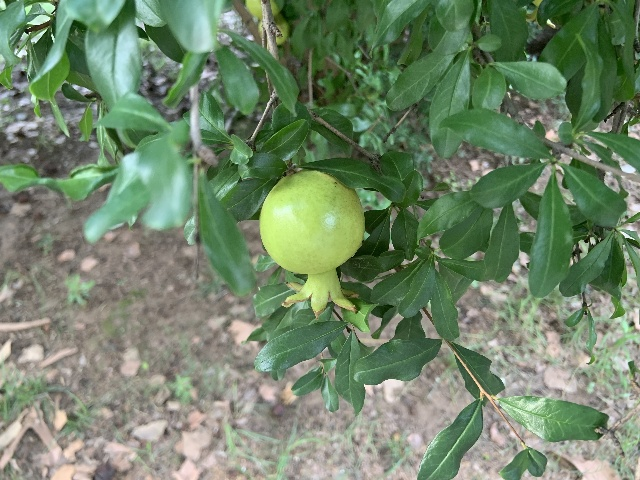mid-growth: (259, 170, 365, 320)
